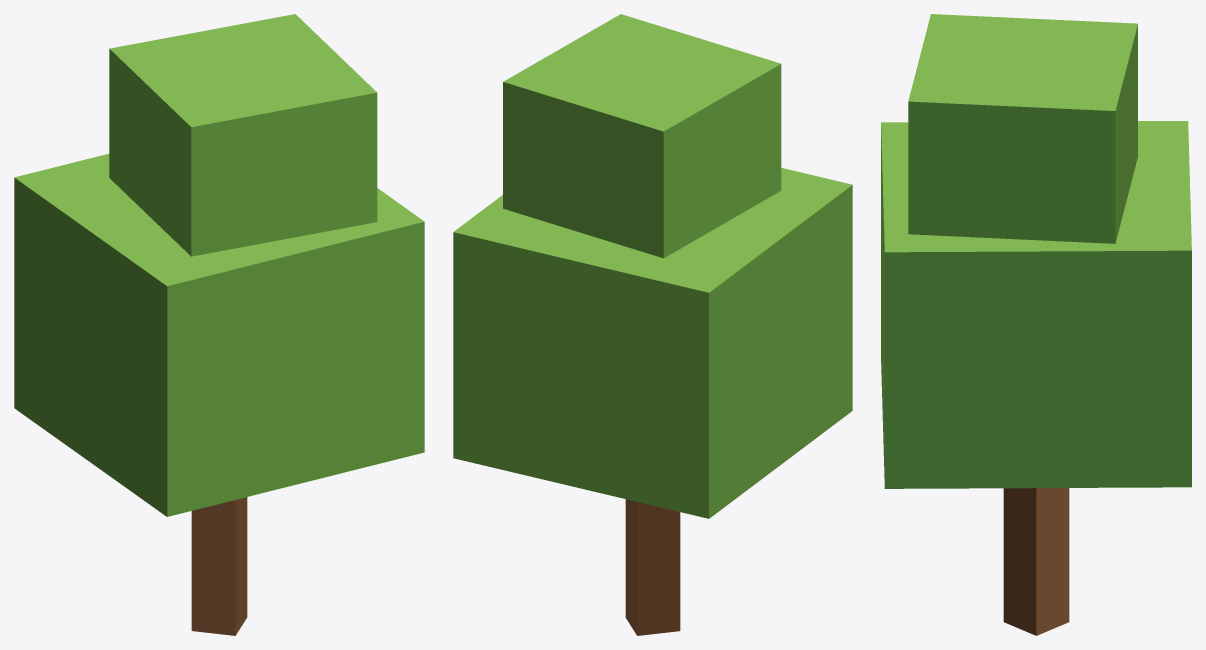
Rendered from tree_blocks.glb.
3 renders of one model, left to right at view 1: azimuth 30°, elevation 25°; view 2: azimuth 150°, elevation 25°; view 3: azimuth 270°, elevation 25°, orthographic. The views are drawn at different scales.
Parts seen in each view (by area): view 1: tree_blocks; view 2: tree_blocks; view 3: tree_blocks.
Part boxes in pixels (x1,y1,x2,y2): tree_blocks: (14, 14, 424, 635); tree_blocks: (453, 14, 852, 635); tree_blocks: (881, 14, 1191, 635).
Bounding box in the file's own units: 0.5668 × 1.14 × 0.5668.
Materials: 1 (1 with a texture image).
